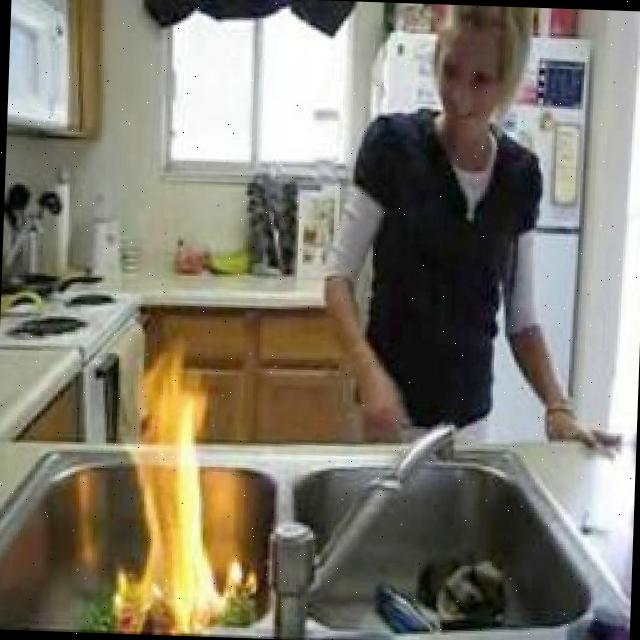fire: (112, 333, 250, 632)
